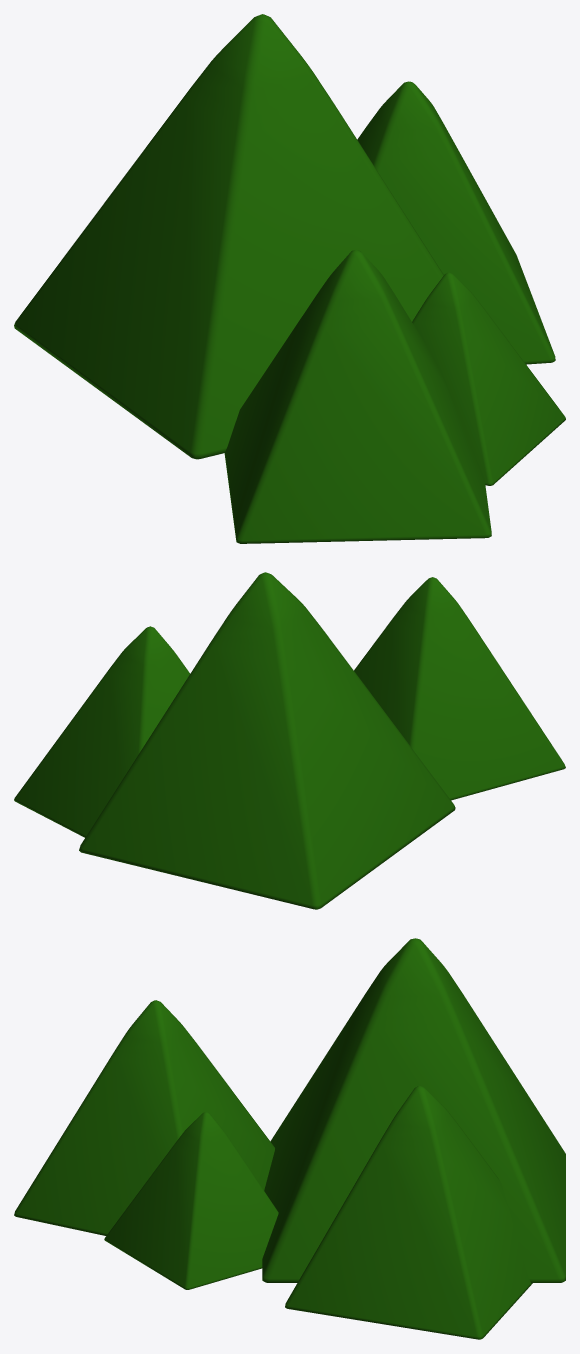
File: bush-05_col.fbx
3 views of the same model, one above another, from view 1: azimuth 30°, elevation 25°; view 2: azimuth 150°, elevation 25°; view 3: azimuth 270°, elevation 25° (orthographic). The views are drawn at different scales.
Parts seen in each view (by area): view 1: bush-05.col; view 2: bush-05.col; view 3: bush-05.col.
Part boxes in pixels (left/top/right/bottom): bush-05.col: left=14, top=14, right=565, bottom=543; bush-05.col: left=14, top=572, right=565, bottom=909; bush-05.col: left=14, top=938, right=565, bottom=1339.
Bounding box in the file's own units: 0.2099 × 0.138 × 0.2415.
1 material, 1 textured.
